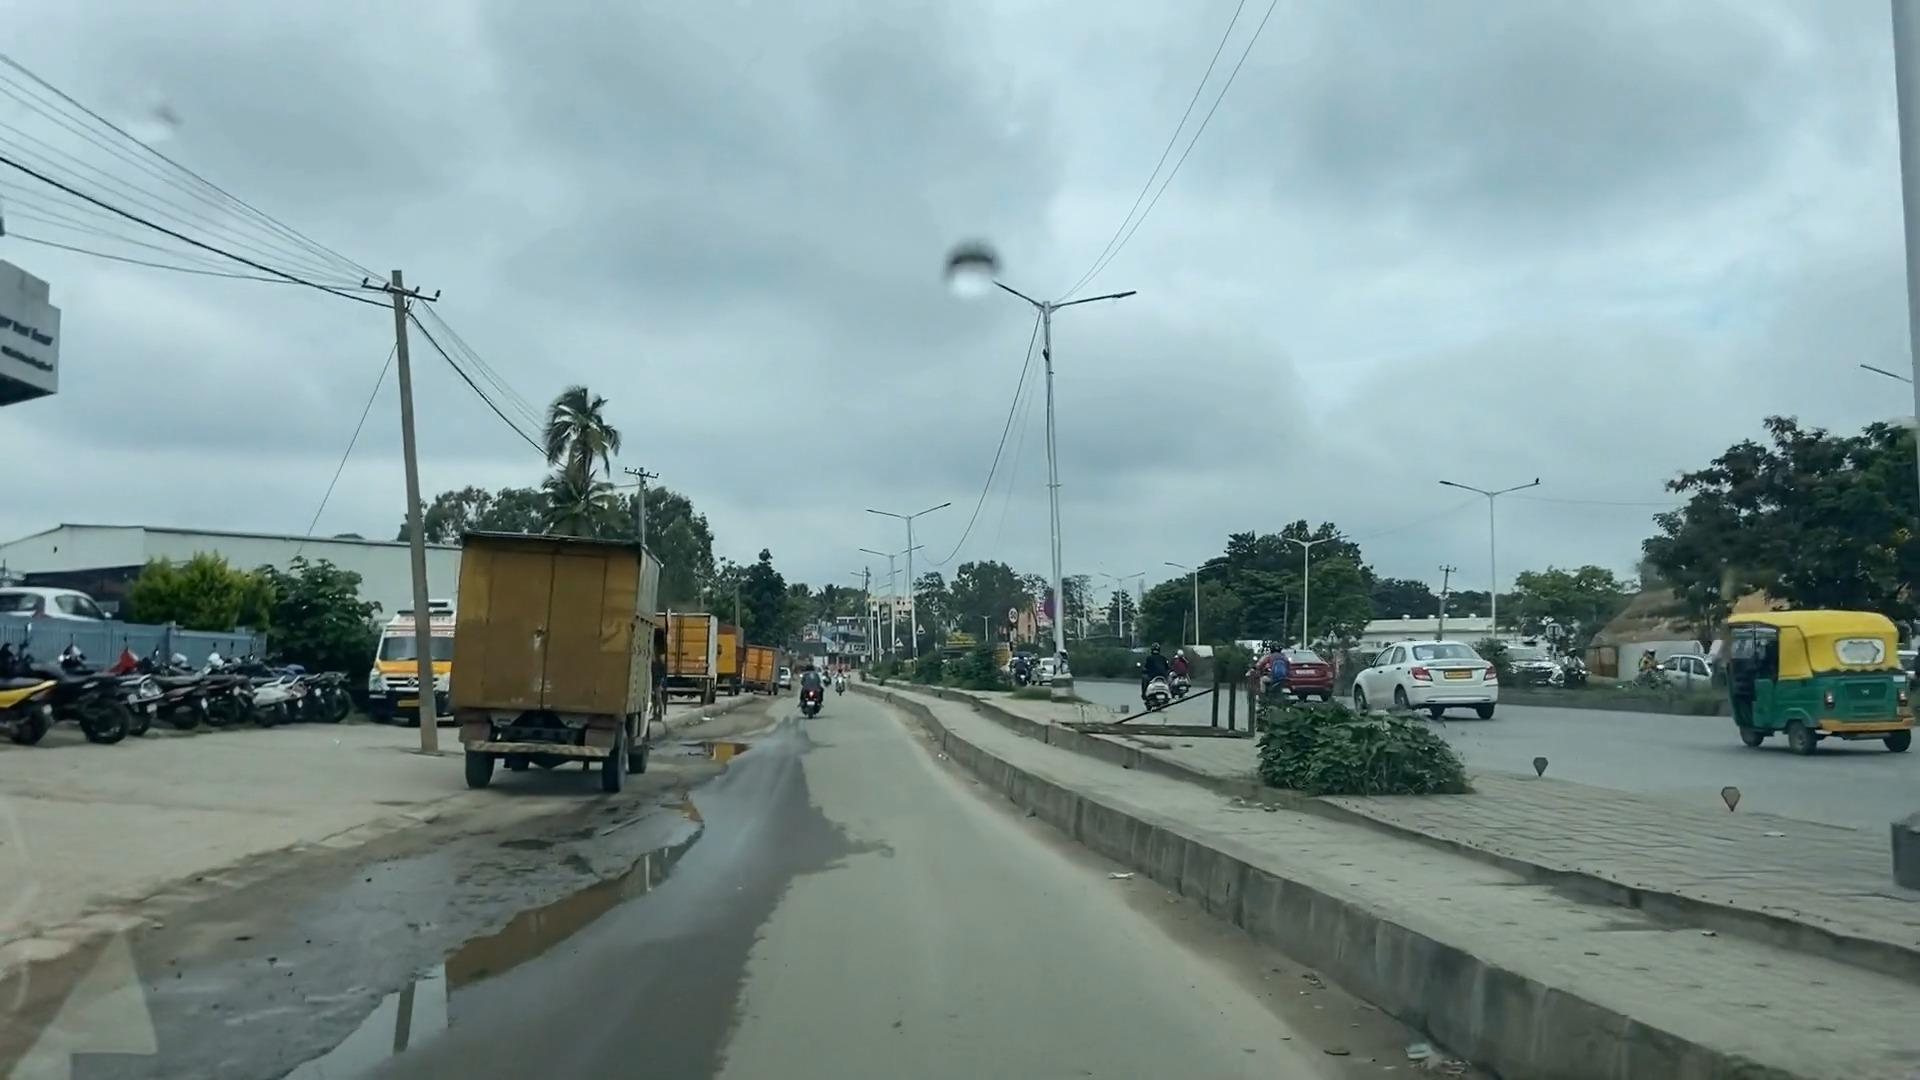HMV: (454, 530, 658, 785)
